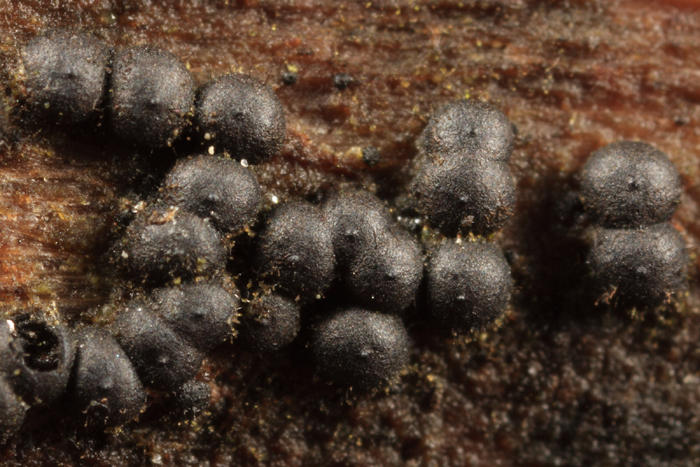pudricion radicular: (10, 6, 689, 430)
